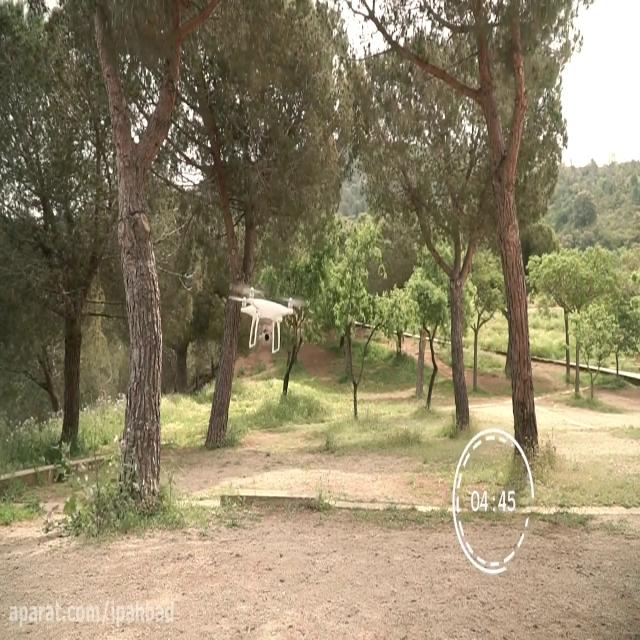drone: (226, 281, 308, 355)
